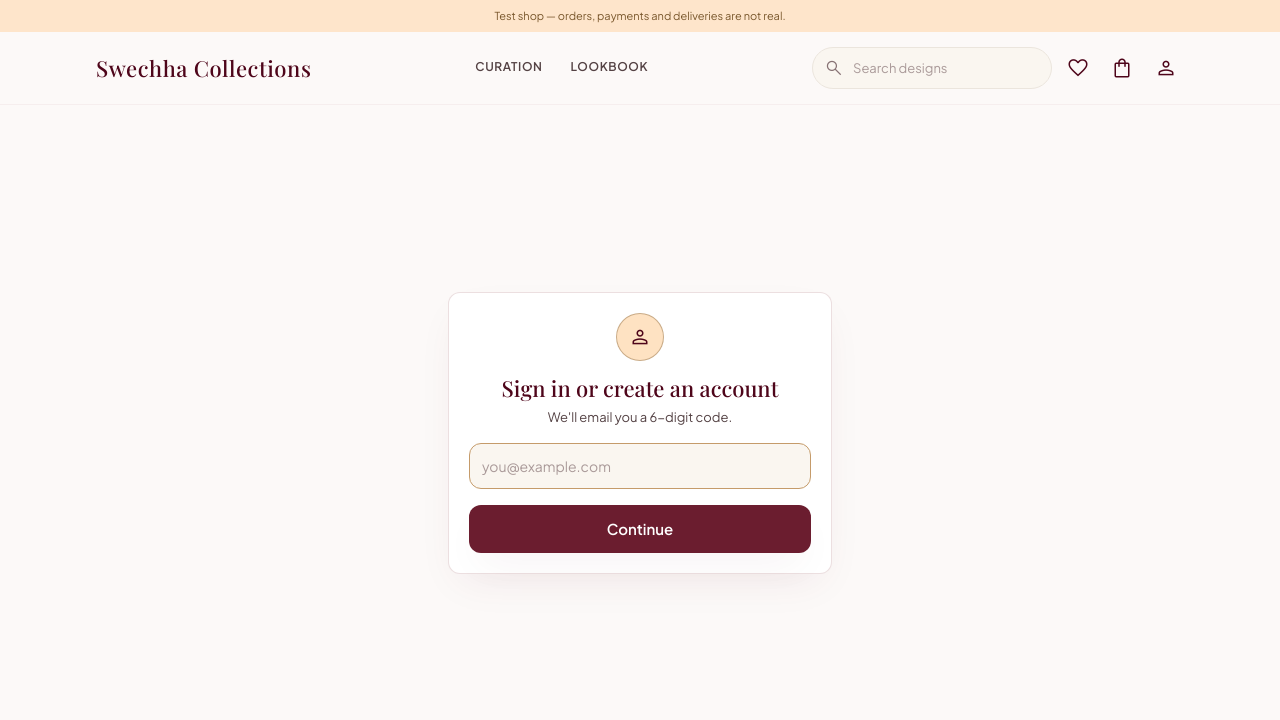
Test case: /login › invalid email shows the server message
Type "nope" into the field with placeholder "you@example.com".
click(640, 466); type("nope")  # box x1=469 y1=443 x2=811 y2=489
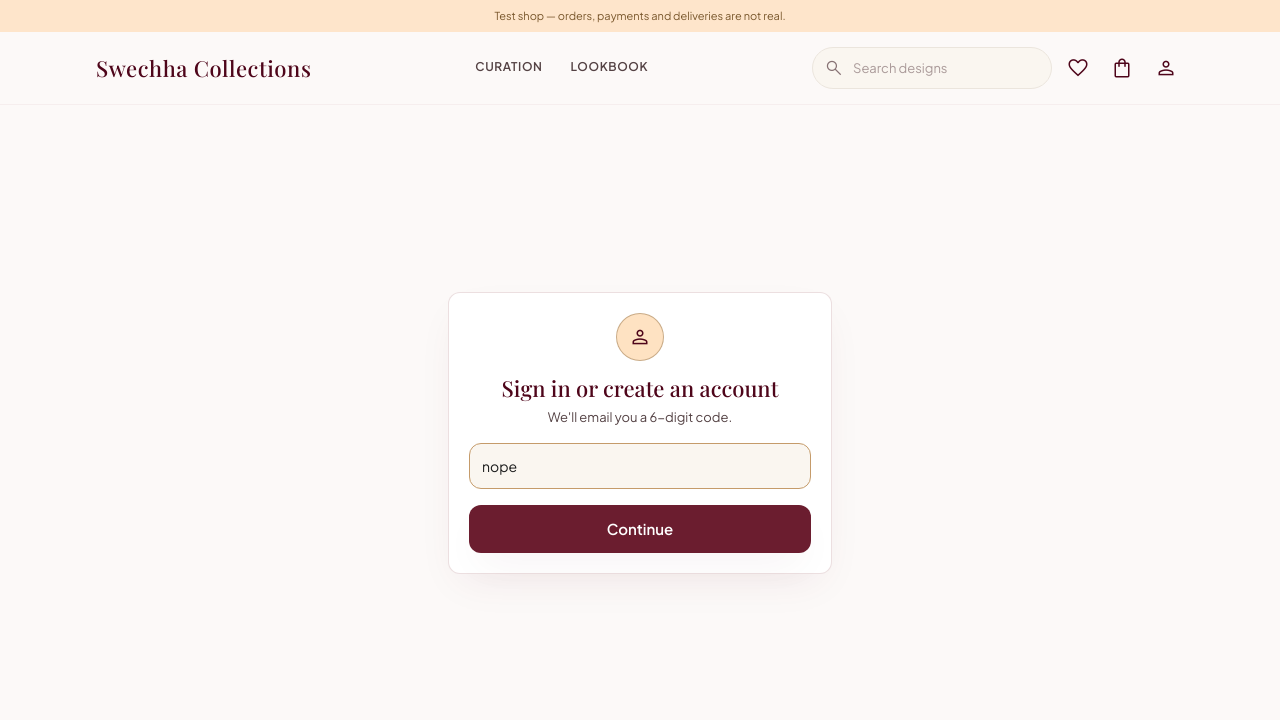
Click the button "Continue".
click(640, 529)  # box x1=469 y1=505 x2=811 y2=553
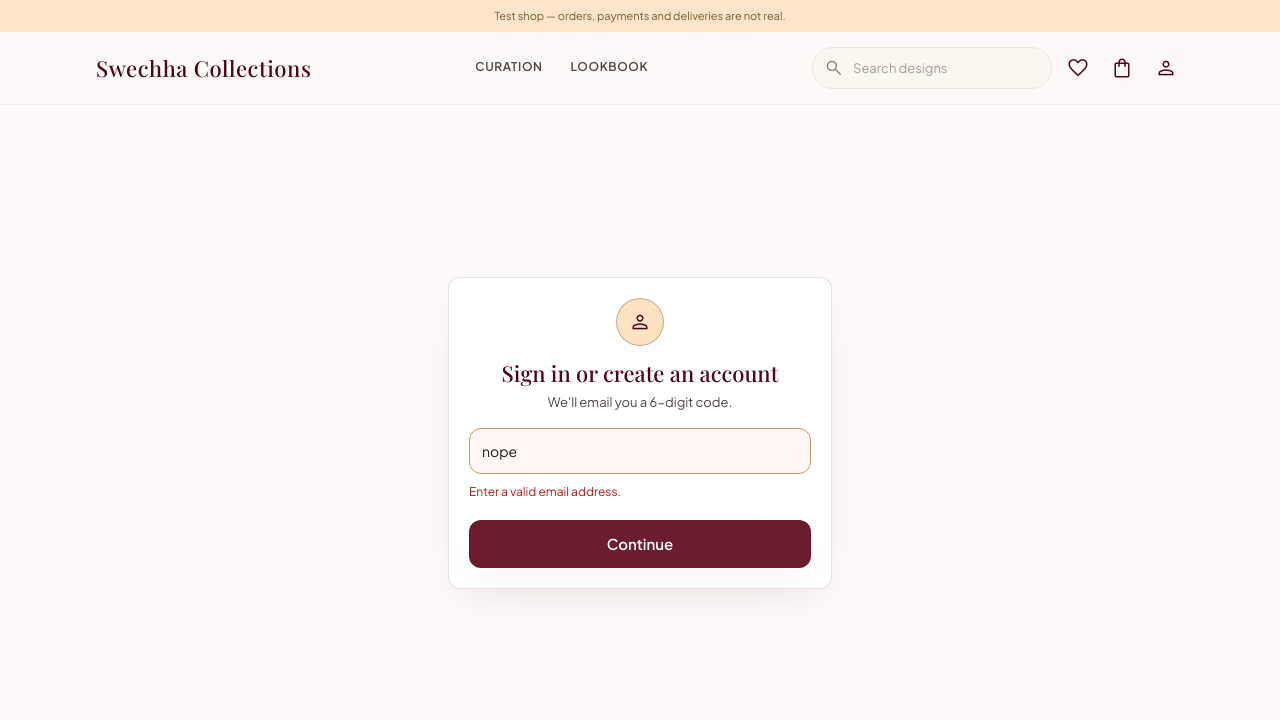
Expected: the message reads "Enter a valid email address.", x1=469 y1=484 x2=621 y2=499
